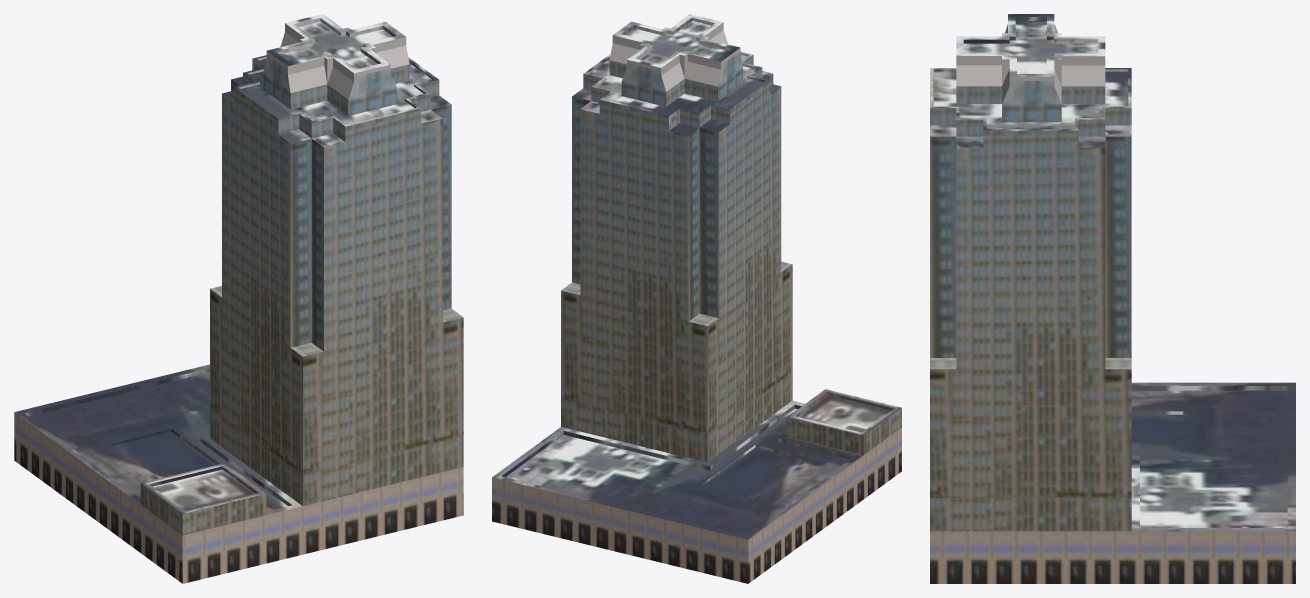
The model's file is international_commerce_building_5a5ed5b1.glb.
3 renders of one model, left to right at view 1: azimuth 30°, elevation 25°; view 2: azimuth 150°, elevation 25°; view 3: azimuth 270°, elevation 25°, orthographic. The views are drawn at different scales.
Visible parts, largest first — view 1: international_commerce_building_5a5ed5b1; view 2: international_commerce_building_5a5ed5b1; view 3: international_commerce_building_5a5ed5b1.
Boxes of the visible parts, left/top/right/bottom form: international_commerce_building_5a5ed5b1: left=14, top=14, right=463, bottom=583; international_commerce_building_5a5ed5b1: left=492, top=14, right=901, bottom=583; international_commerce_building_5a5ed5b1: left=930, top=14, right=1295, bottom=583.
Bounding box in the file's own units: 66.01 × 103 × 68.6.
Materials: 1 (1 with a texture image).
